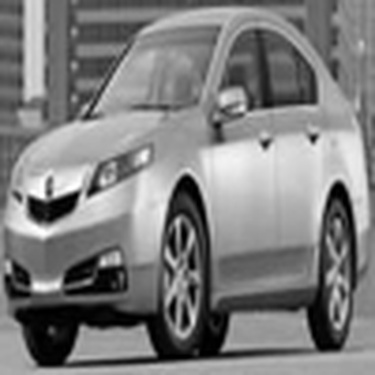car: (3, 4, 370, 371)
